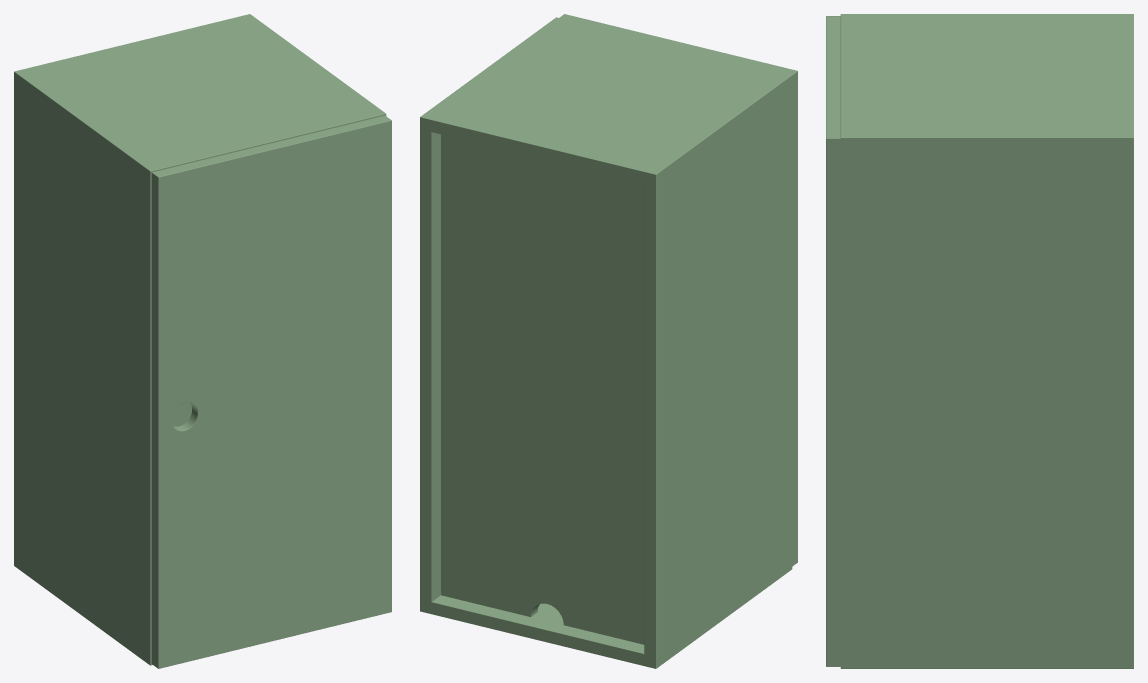
File: MOD-1X2-D-B-IZQ-AP-SA.glb
3 renders of one model, left to right at view 1: azimuth 30°, elevation 25°; view 2: azimuth 150°, elevation 25°; view 3: azimuth 270°, elevation 25°, orthographic. The views are drawn at different scales.
Bounding box in the file's own units: 360 × 720 × 378.
